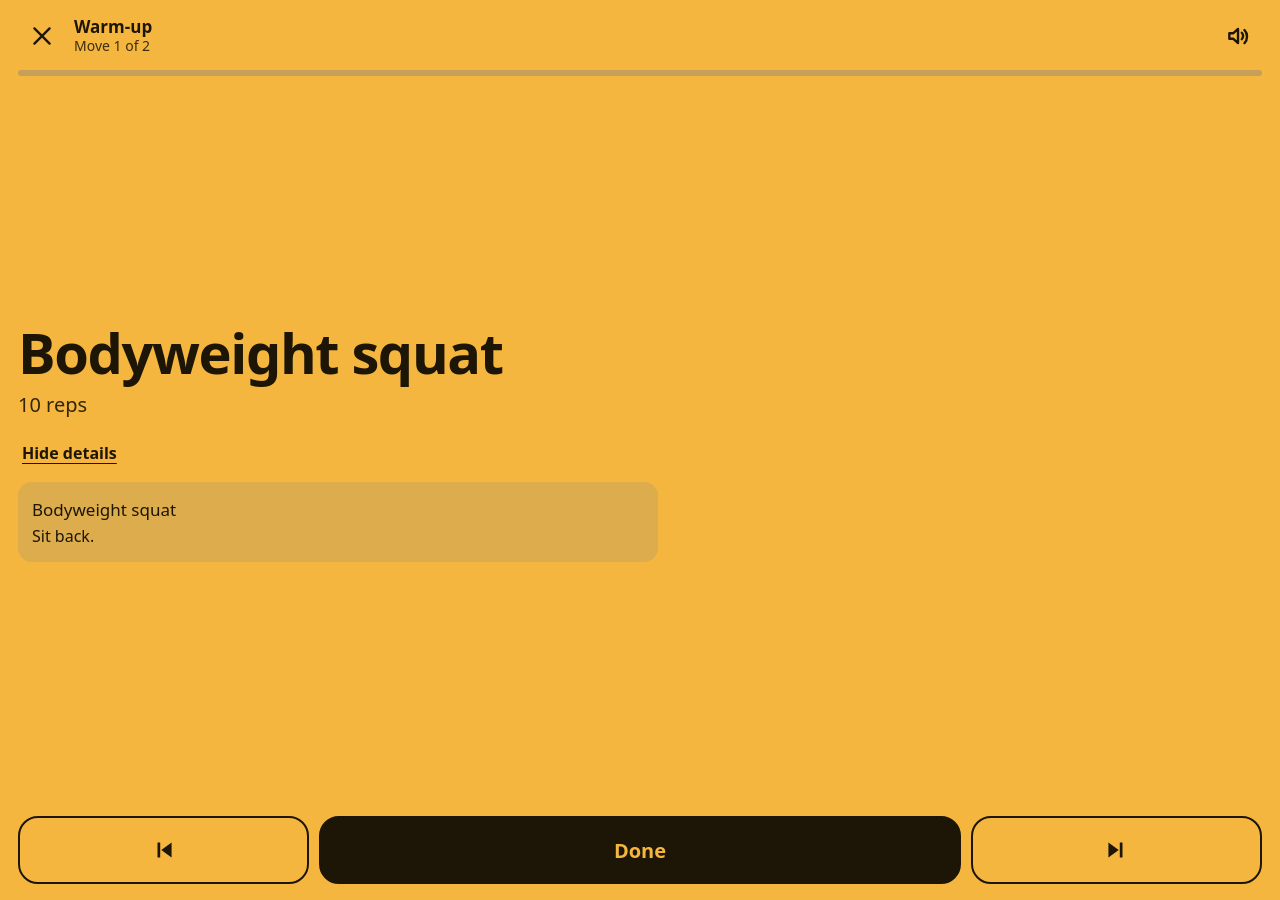
Scenario: an untimed step › advances when you say you are done
Click the button "Done".
click(640, 850)  # box [319,816,960,884]
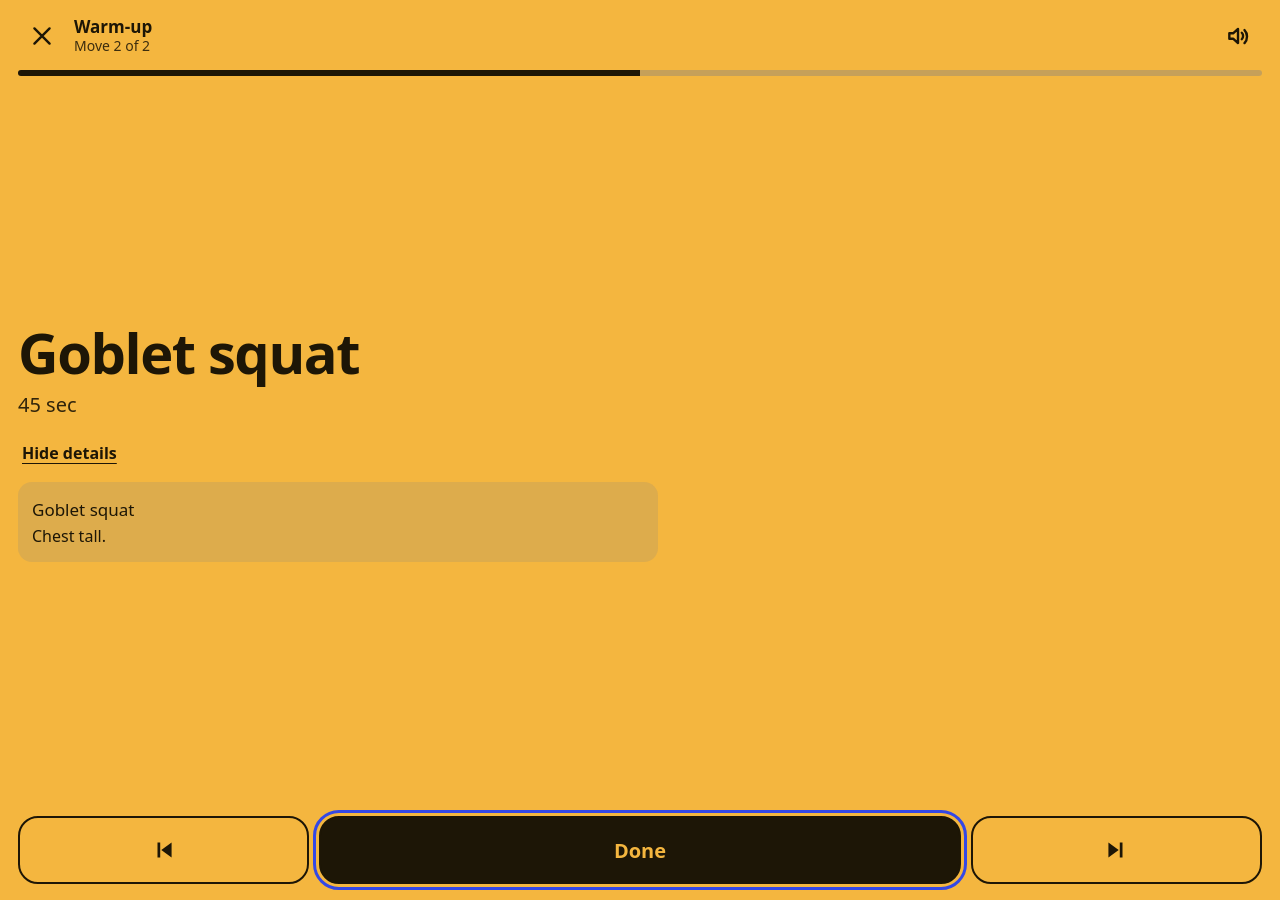
Check: the text "Goblet squat" is shown, box [18,314,359,390]
